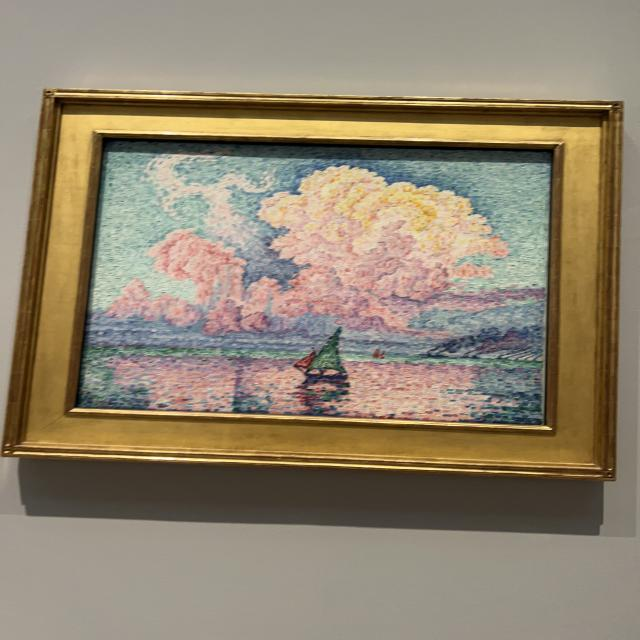sunrise: (82, 143, 548, 421)
